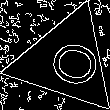O_W: (34, 32, 98, 90)
